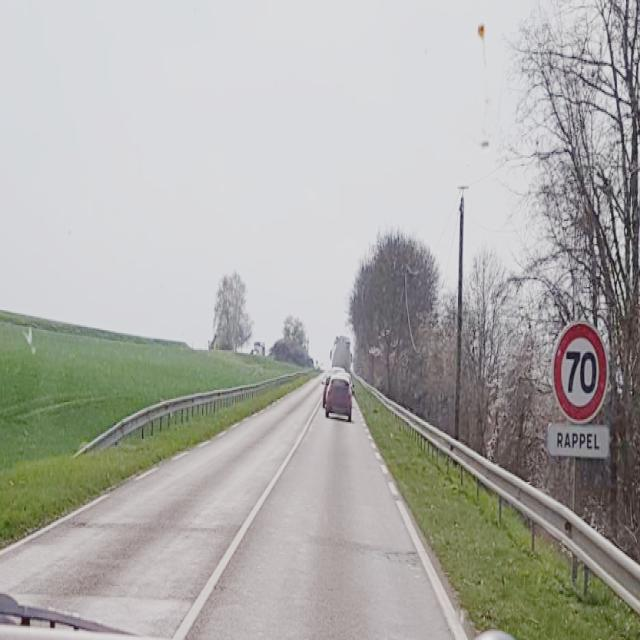speed_70: (554, 318, 610, 423)
